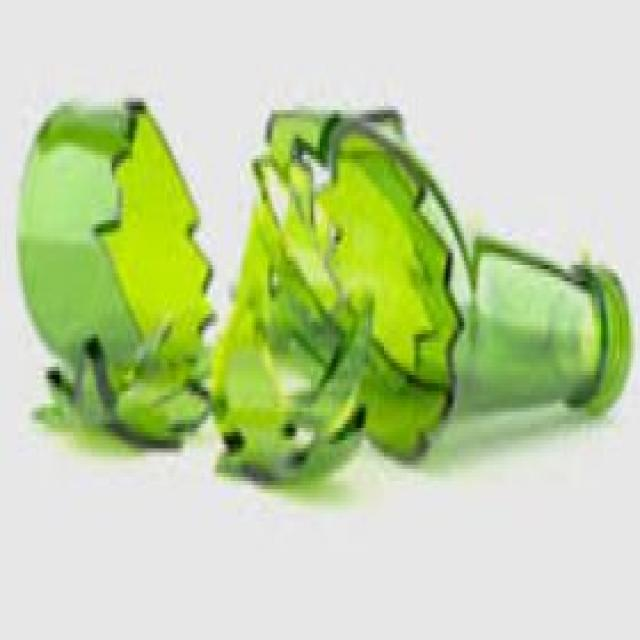electronic: (214, 90, 636, 498), (18, 92, 215, 460)
